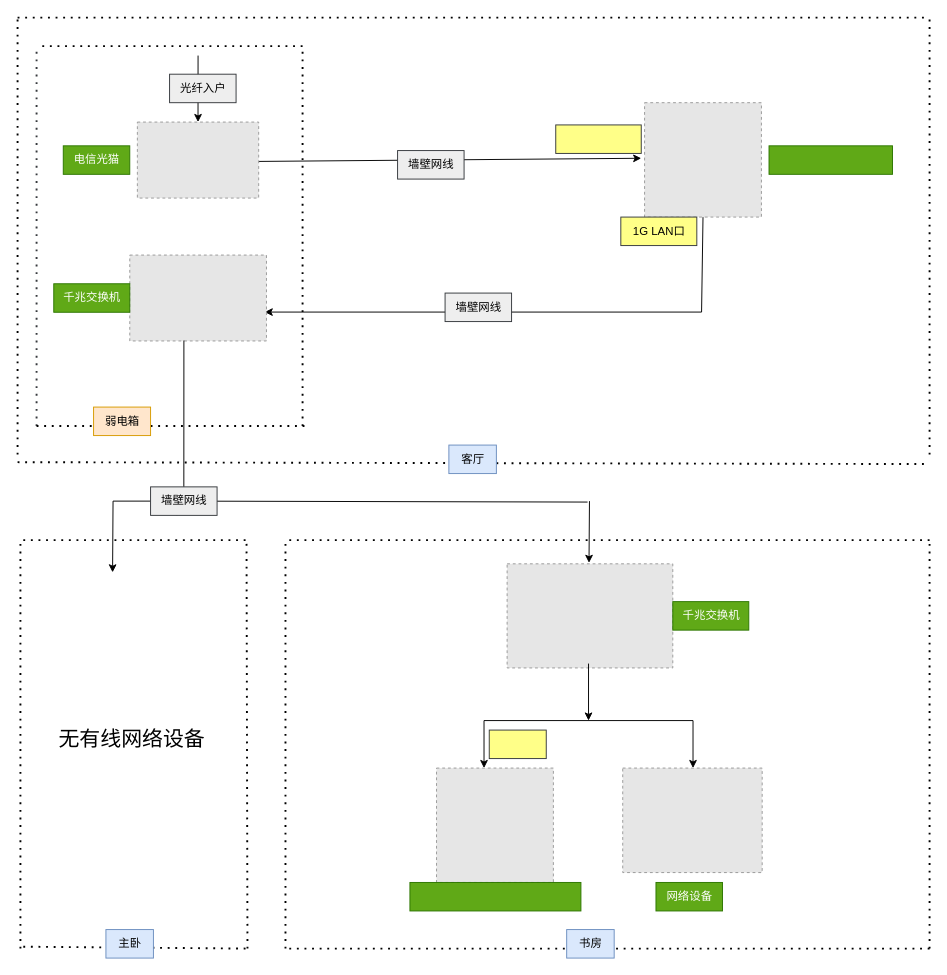
Image size: 947x975. Some labels were removed from this diagram. Grey dashed boxes stand in for pictures. The box of each missing label's shape, as (x1, y1, x2, y2) in pixels:
2.5G WAN口: (555, 124, 641, 153)
LAN口: (488, 729, 546, 759)
小米AX6000路由器: (768, 145, 893, 174)
小米AX6S路由器(有线mesh): (409, 882, 581, 911)
